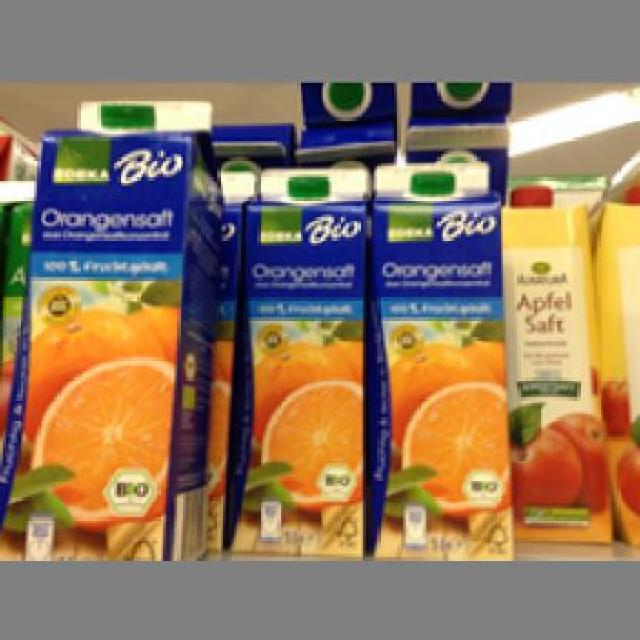Juice: (0, 94, 220, 557), (363, 157, 511, 554), (239, 163, 372, 552)
